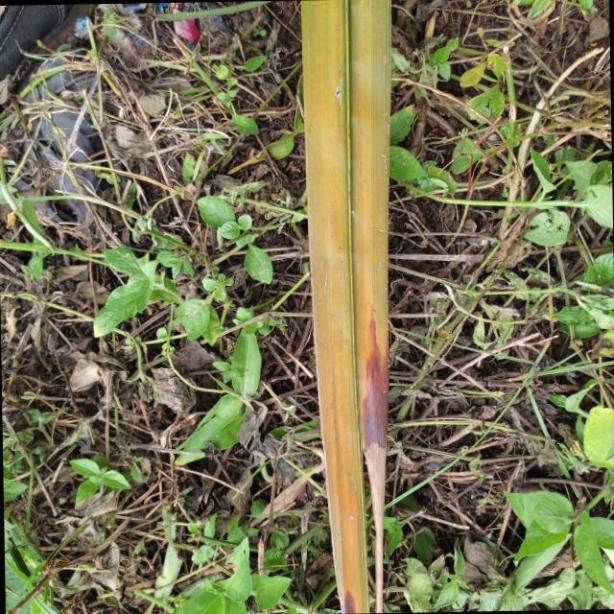Megnesium: (297, 0, 392, 614)
